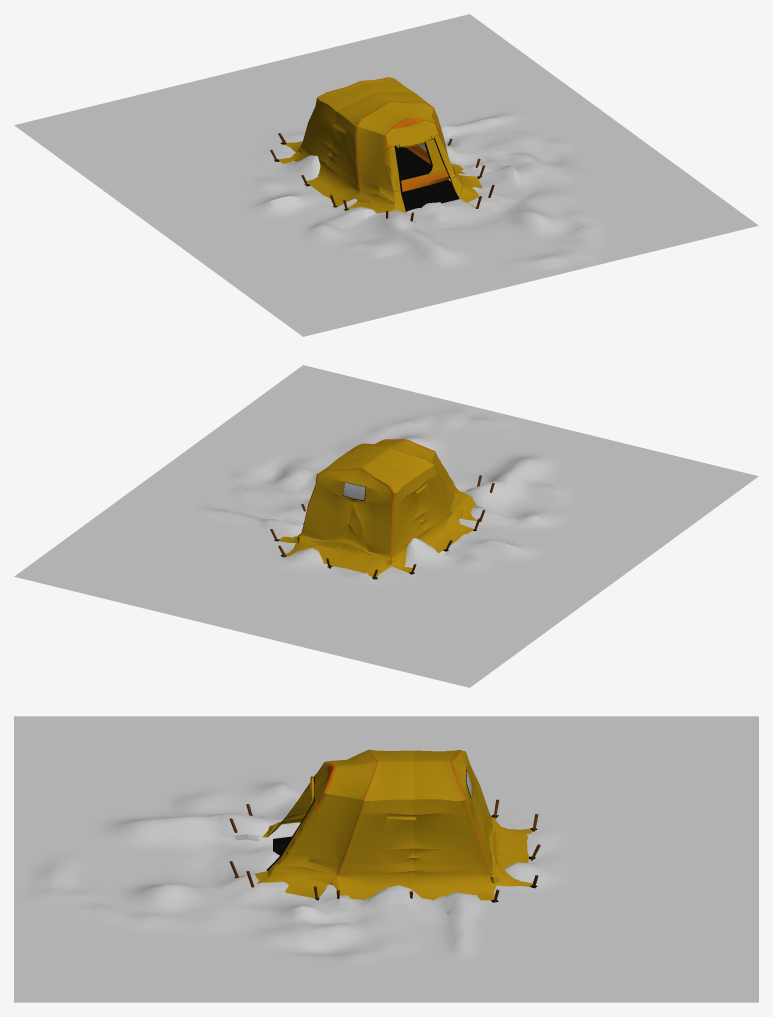
Rendered from ColdTent.fbx.
The picture shows the model from 3 angles, top to bottom: view 1: azimuth 30°, elevation 25°; view 2: azimuth 150°, elevation 25°; view 3: azimuth 270°, elevation 25°; orthographic projection. The views are drawn at different scales.
Parts seen in each view (by area): view 1: floorSnow, tentOutside, tentInside; view 2: floorSnow, tentOutside; view 3: floorSnow, tentOutside, tentInside.
Part boxes in pixels (x1,y1,x2,y2): floorSnow: (14,14,758,336); tentOutside: (274,77,482,213); tentInside: (270,103,494,221); floorSnow: (14,365,758,687); tentOutside: (274,439,477,579); floorSnow: (14,716,758,1002); tentOutside: (234,749,537,902); tentInside: (229,756,540,901).
Size of the model in its own units: 1415 by 238 by 1555.
